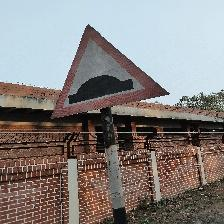Speed-breaker: (50, 24, 171, 118)
